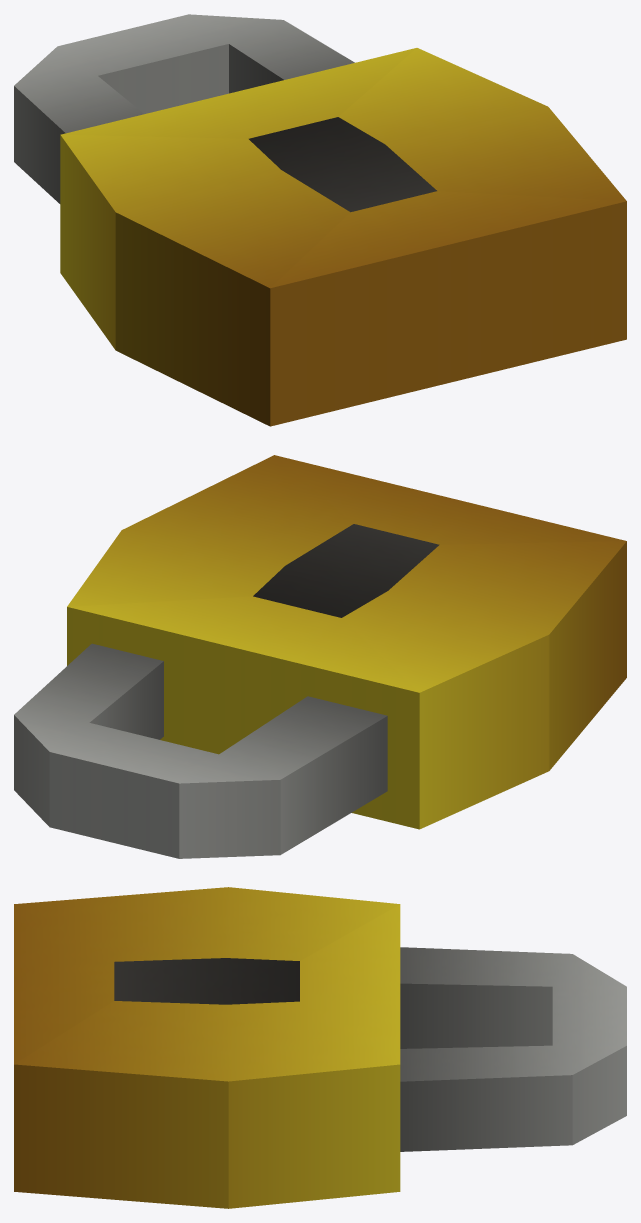
Rendered from Padlock.fbx.
3 views of the same model, one above another, from view 1: azimuth 30°, elevation 25°; view 2: azimuth 150°, elevation 25°; view 3: azimuth 270°, elevation 25° (orthographic). The views are drawn at different scales.
Parts seen in each view (by area): view 1: Padlock; view 2: Padlock; view 3: Padlock.
Boxes of the visible parts, left/top/right/bottom form: Padlock: left=14, top=14, right=626, bottom=426; Padlock: left=14, top=455, right=626, bottom=858; Padlock: left=14, top=887, right=626, bottom=1208.
Size of the model in its own units: 14.12 by 4.41 by 18.82.
